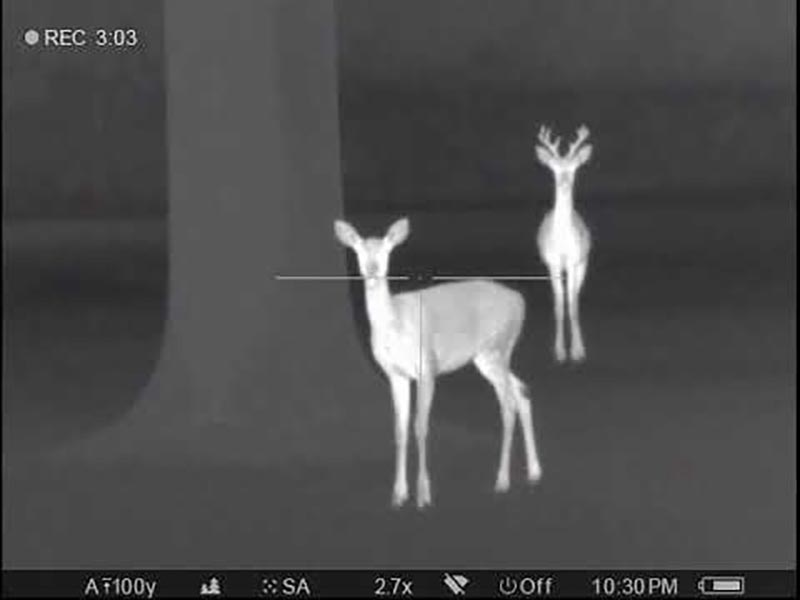cervo: (322, 210, 544, 507), (523, 123, 610, 364)
